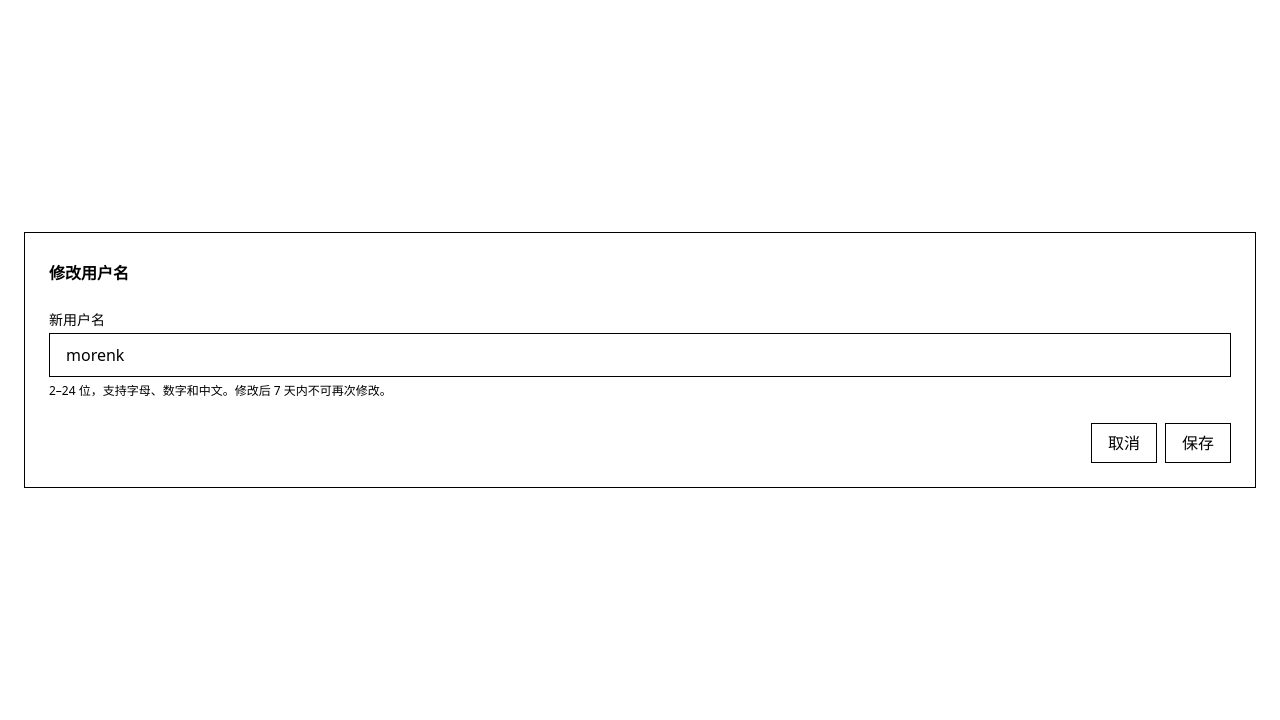
Test: UsernameEdit › 后端 7 天冷却消息原样展示
Replace the text in the field labelled "新用户名" with "taken" at (640, 355), box [49,333,1231,377]
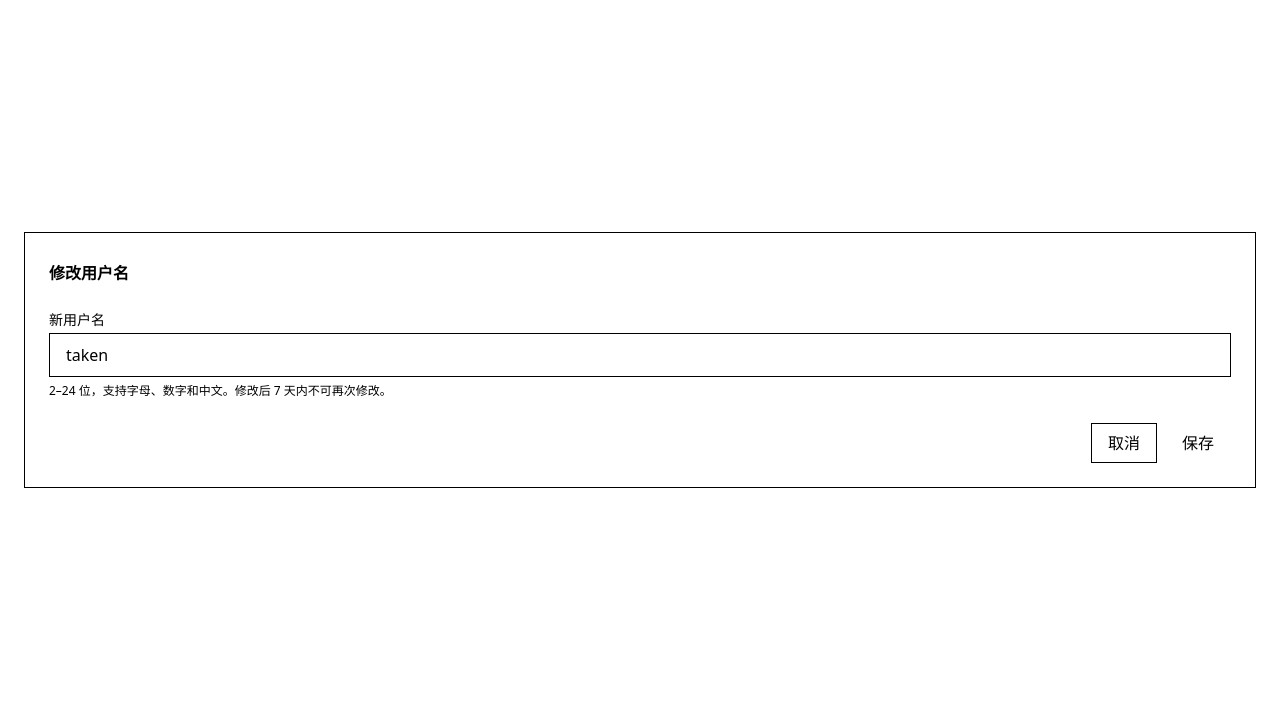
Click the button "保存".
click(1198, 443)  # box [1165,423,1231,463]
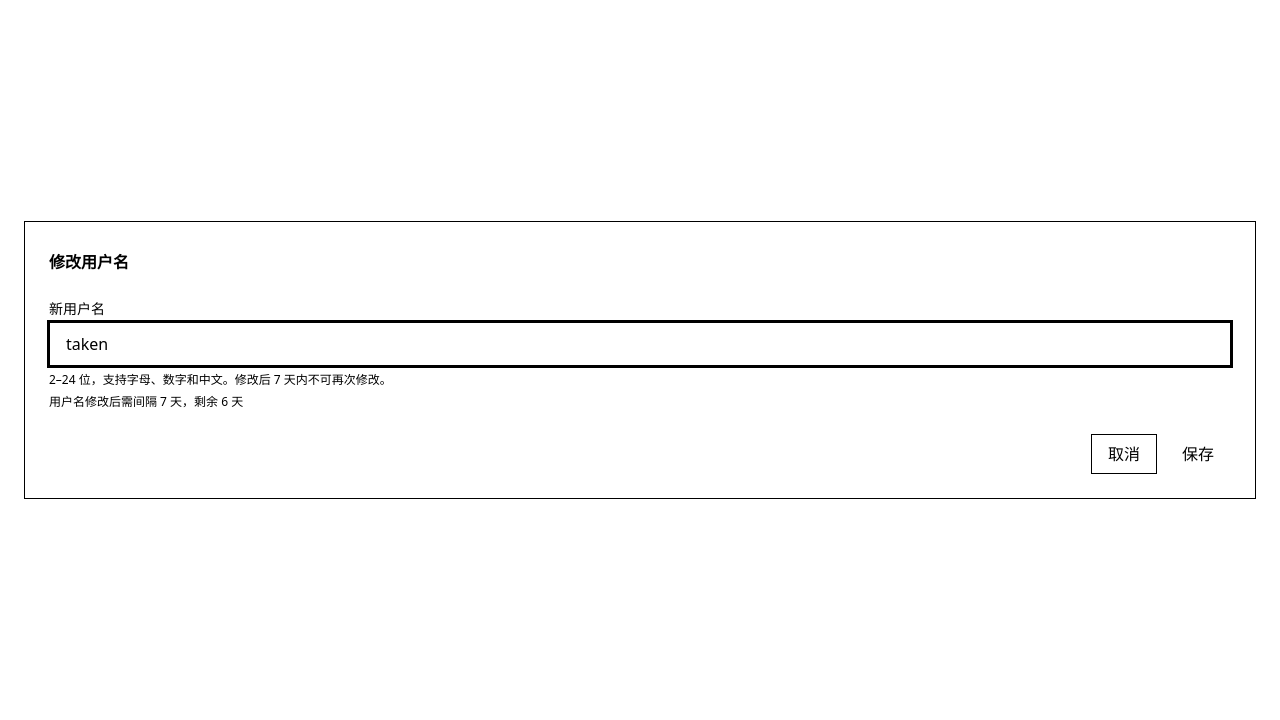
Expected: the text "用户名修改后需间隔 7 天，剩余 6 天" is shown, [49,393,243,410]
